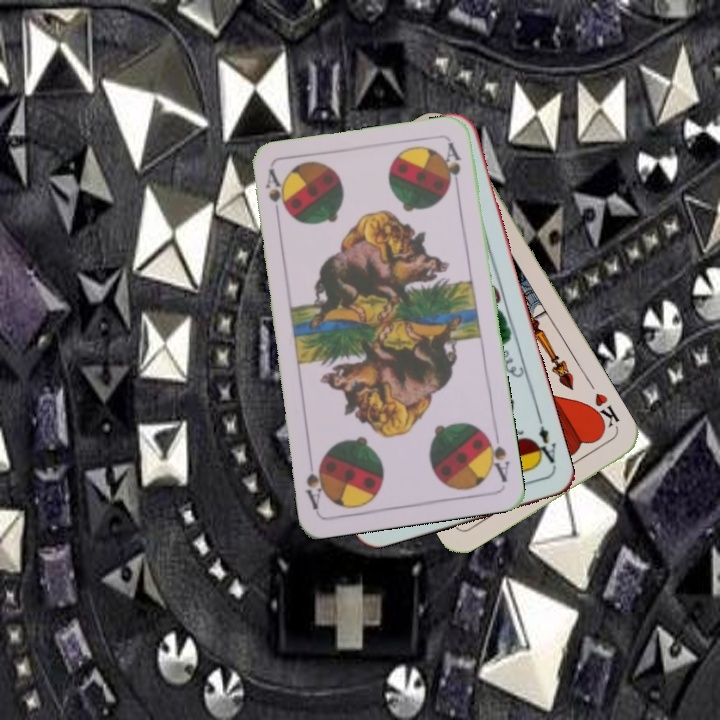EA: (528, 413, 559, 471)
HK: (584, 388, 622, 434)
SA: (480, 426, 512, 485), (261, 166, 286, 225)
